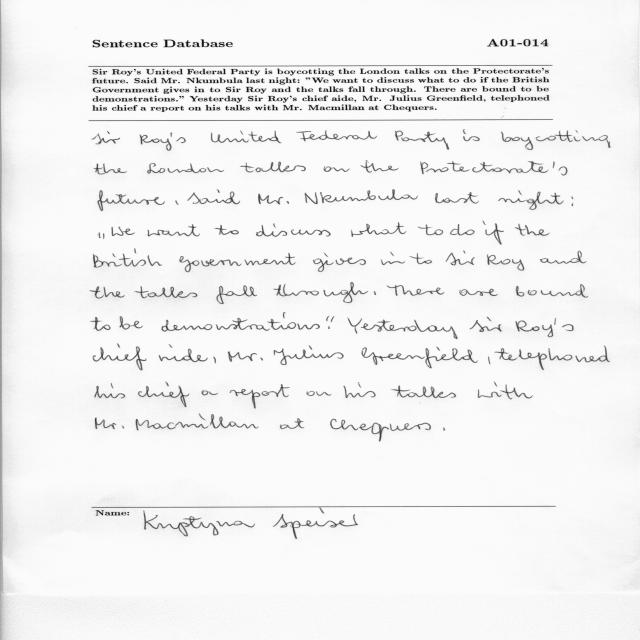word: (161, 313, 320, 332), (494, 346, 610, 370), (361, 347, 478, 368), (347, 317, 458, 339), (330, 419, 431, 442), (420, 161, 567, 176), (180, 253, 296, 272), (501, 130, 611, 150), (136, 414, 259, 431), (274, 282, 368, 303), (305, 190, 418, 205), (230, 384, 290, 409), (98, 190, 165, 211), (274, 345, 344, 365), (94, 344, 147, 370), (93, 249, 162, 268), (138, 382, 189, 407), (498, 191, 564, 210), (516, 318, 574, 337), (395, 131, 449, 150), (516, 284, 588, 298), (313, 253, 366, 272), (256, 224, 331, 237), (478, 382, 533, 399), (211, 131, 281, 144), (296, 131, 377, 142), (159, 344, 208, 362), (147, 163, 224, 174), (139, 133, 186, 151), (392, 386, 456, 399), (351, 222, 406, 237), (216, 285, 257, 304), (134, 286, 198, 298), (187, 190, 240, 204), (240, 162, 306, 173), (387, 285, 445, 296), (147, 225, 200, 237), (487, 254, 524, 271), (540, 251, 586, 264), (343, 382, 376, 398), (483, 221, 504, 245), (469, 317, 502, 332), (361, 160, 399, 173), (435, 192, 479, 203), (95, 383, 125, 398), (91, 286, 125, 299), (446, 251, 475, 266), (515, 224, 550, 236), (228, 351, 263, 362), (92, 131, 120, 144), (94, 164, 127, 175), (258, 194, 289, 205), (380, 252, 405, 265), (120, 316, 143, 330), (95, 418, 124, 429), (91, 317, 111, 331), (450, 224, 475, 235), (459, 289, 498, 296), (280, 418, 304, 429), (409, 253, 432, 264), (214, 225, 239, 235), (418, 225, 443, 235), (112, 227, 136, 236), (463, 130, 480, 141), (324, 166, 350, 172), (307, 391, 332, 396), (201, 390, 218, 395), (328, 316, 334, 329), (99, 232, 104, 239), (488, 357, 491, 365), (571, 196, 573, 206), (213, 357, 216, 363), (175, 201, 179, 205), (326, 316, 329, 321), (374, 291, 376, 295), (443, 428, 445, 431)
